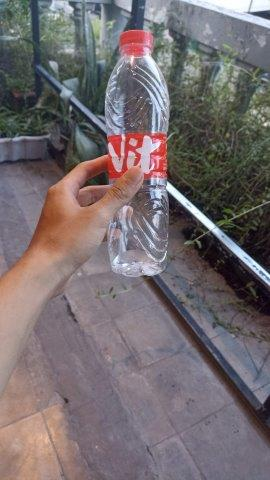botolplastik: (107, 30, 169, 279)
